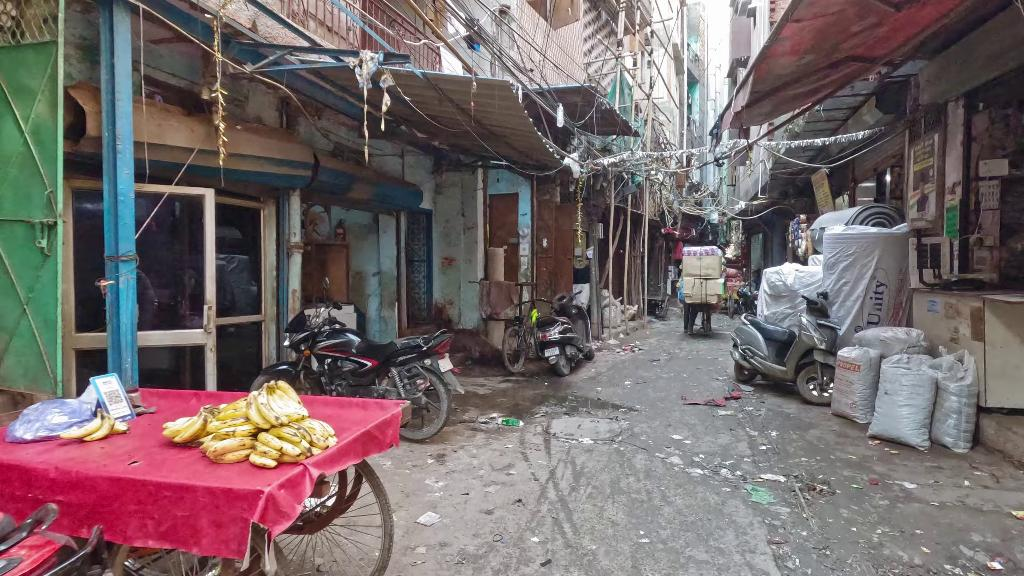garbage: (741, 480, 771, 510), (684, 397, 731, 413), (417, 505, 443, 529), (495, 416, 525, 431)
